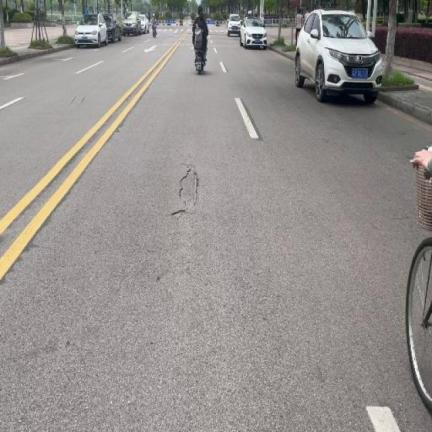Road: (0, 27, 431, 431)
